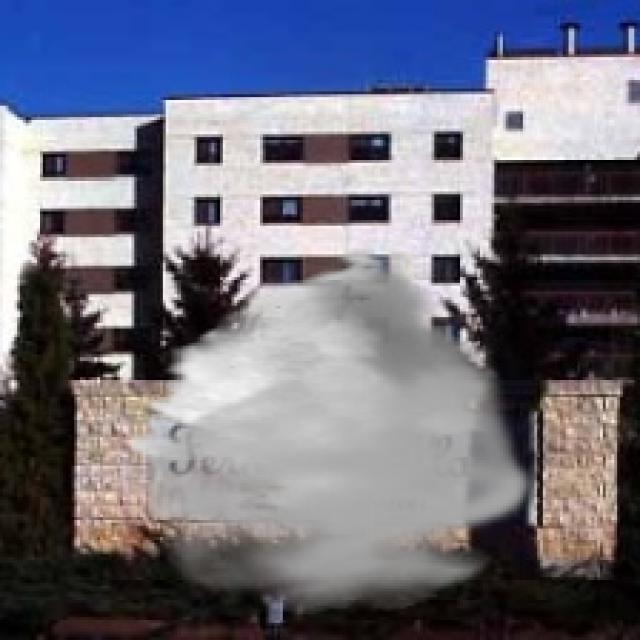smoke: (132, 246, 537, 614)
